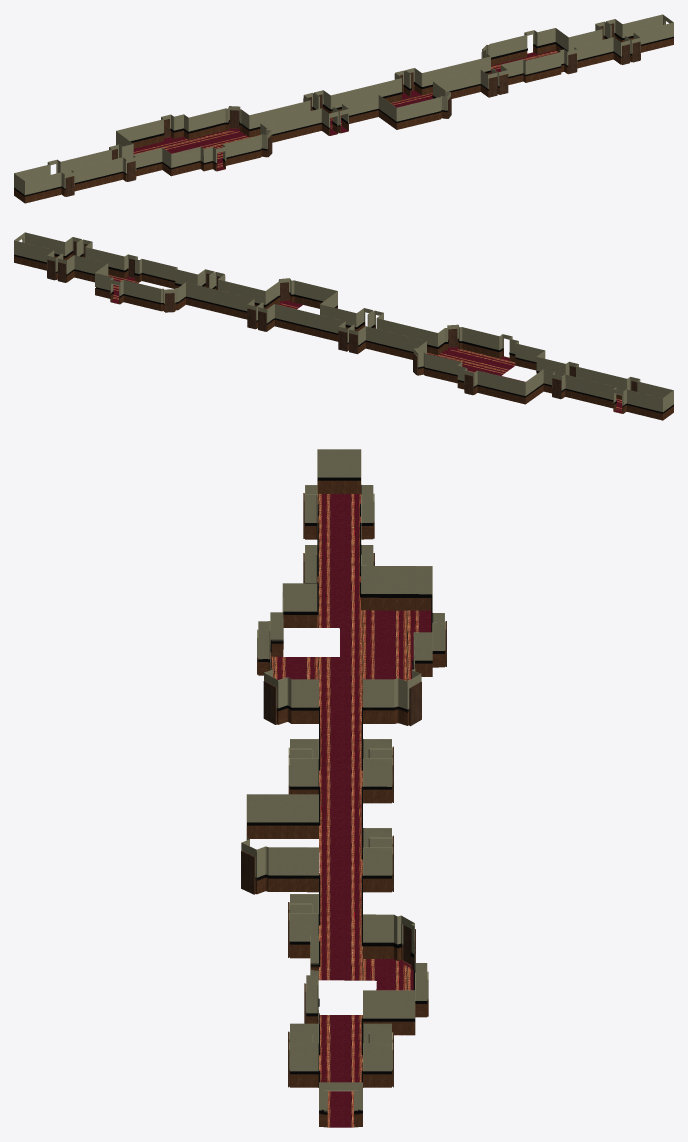
The model's file is HALLWAY TEST.fbx.
3 renders of one model, top to bottom at view 1: azimuth 30°, elevation 25°; view 2: azimuth 150°, elevation 25°; view 3: azimuth 270°, elevation 25°, orthographic. The views are drawn at different scales.
Parts seen in each view (by area): view 1: CD - HALLWAY.001; view 2: CD - HALLWAY.001; view 3: CD - HALLWAY.001.
Part boxes in pixels (x1,y1,x2,y2): CD - HALLWAY.001: [14, 14, 673, 203]; CD - HALLWAY.001: [14, 232, 673, 420]; CD - HALLWAY.001: [241, 449, 446, 1127].
Bounding box in the file's own units: 8390 × 278 × 1152.
Materials: 1 (1 with a texture image).
